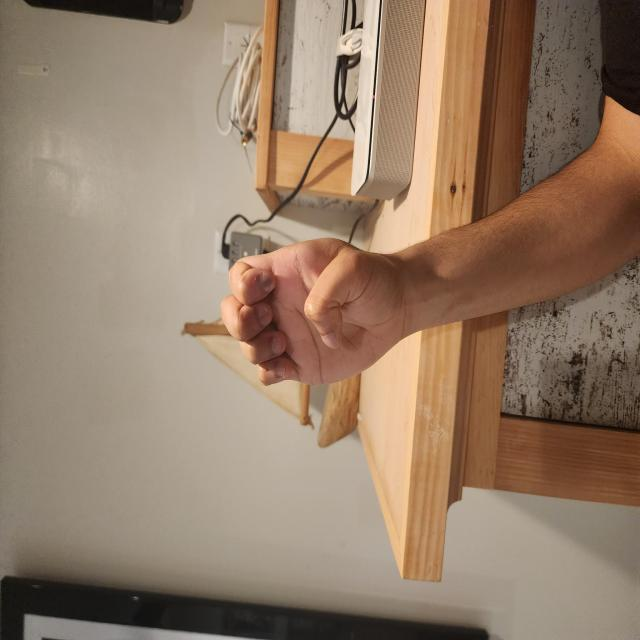E: (186, 291, 308, 551)
